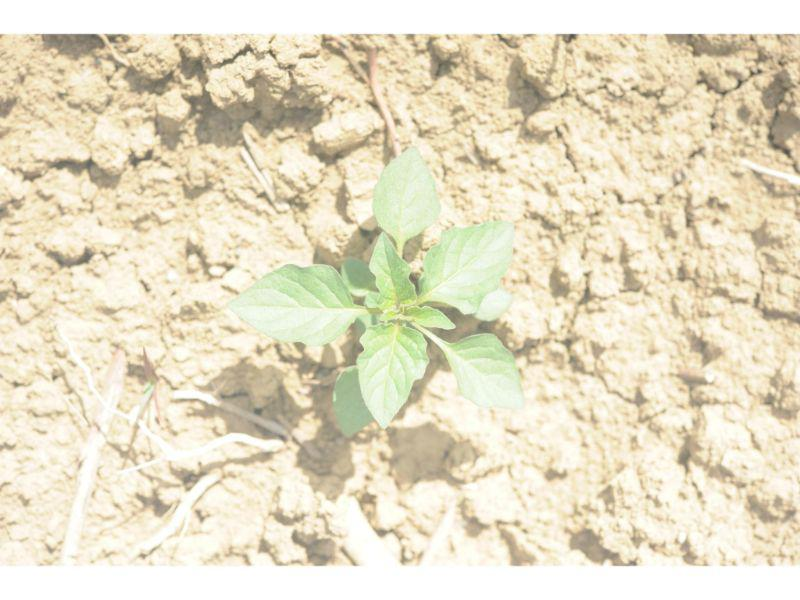nightshade: (227, 143, 527, 438)
